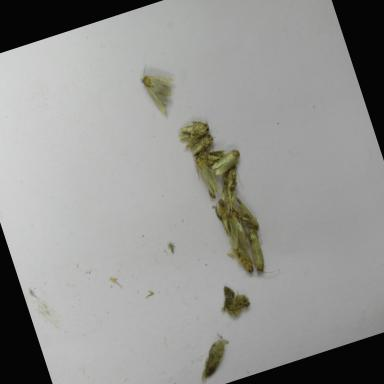pbw: (136, 57, 184, 120), (188, 328, 238, 380), (240, 223, 279, 277), (213, 163, 250, 216), (222, 235, 256, 277), (220, 204, 250, 250), (192, 153, 220, 197), (232, 190, 260, 233), (180, 131, 220, 160), (212, 196, 237, 238), (208, 147, 244, 175), (175, 116, 211, 143), (196, 142, 229, 168)
